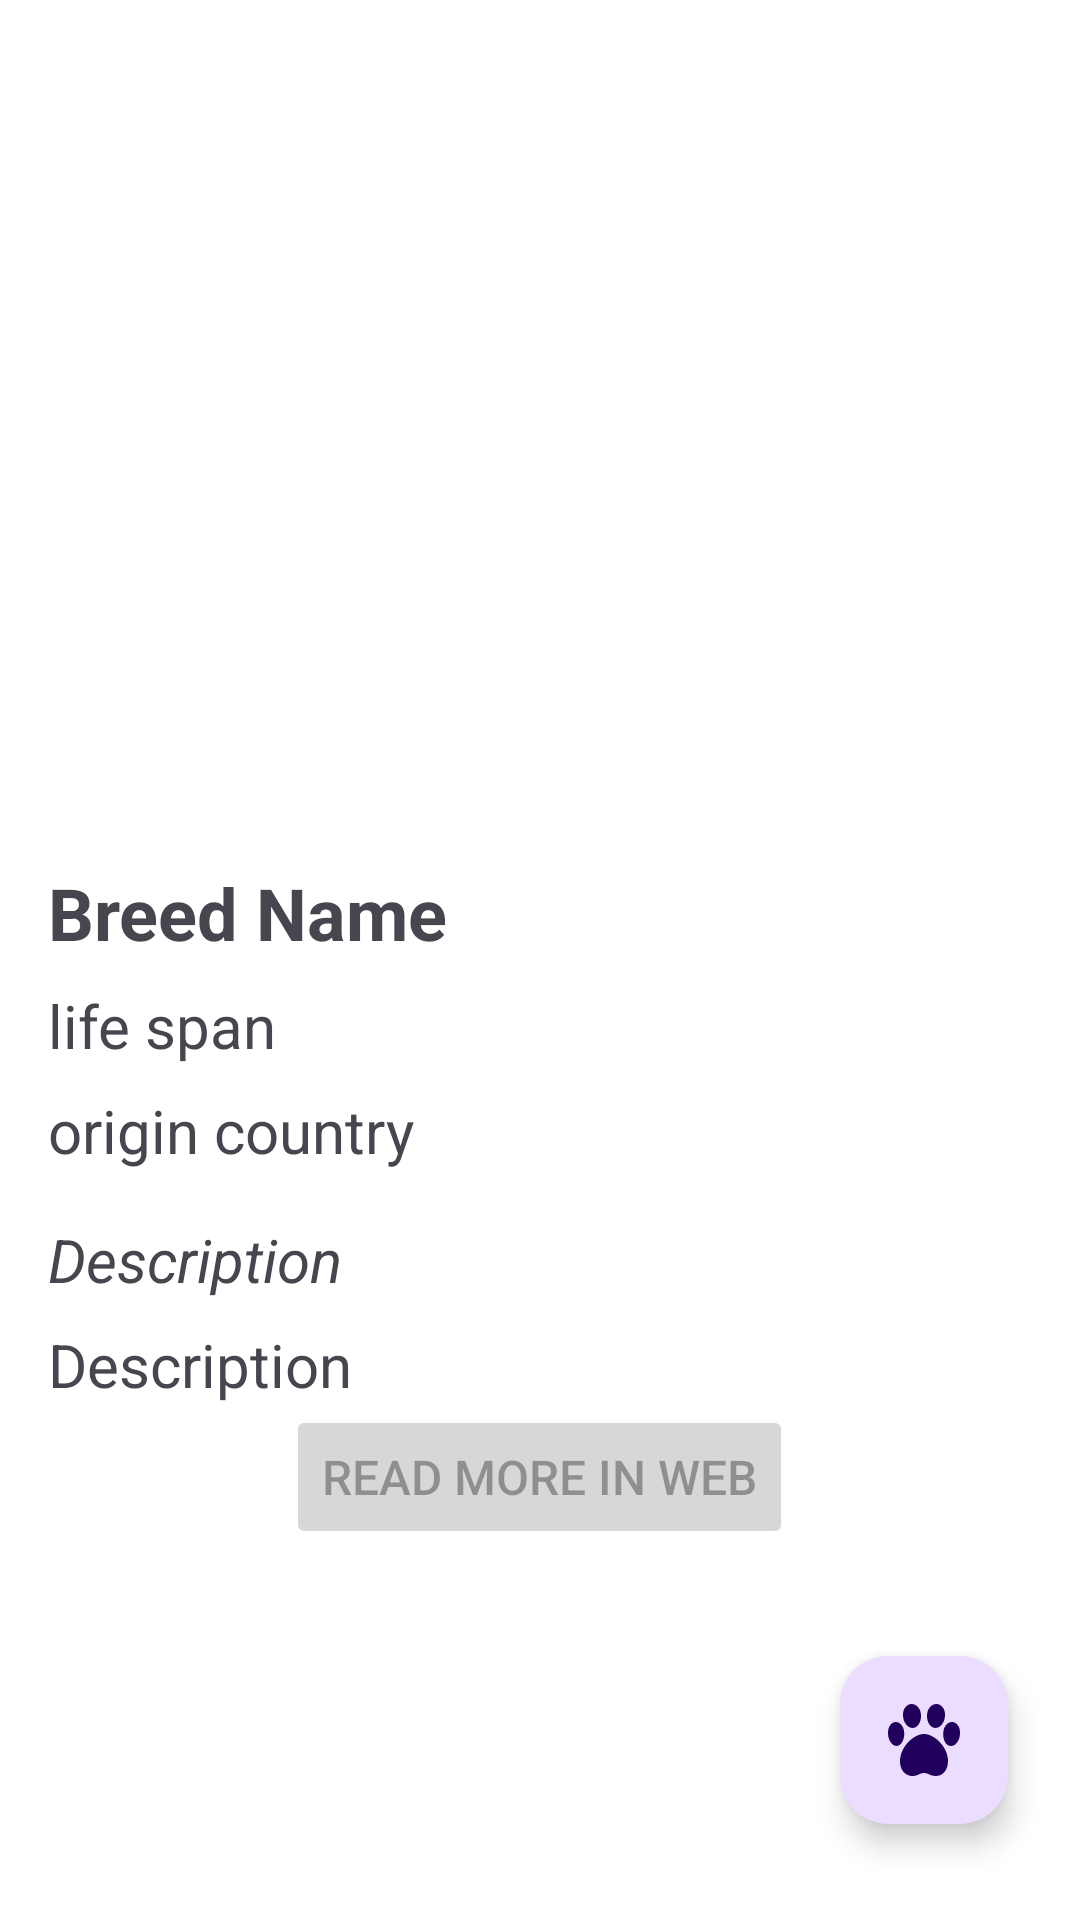

Locate icon controls on the screen. Image size 1080x1920, boxes as (x1, y1, x2, y2).
paw: (840, 1656, 1008, 1824)
